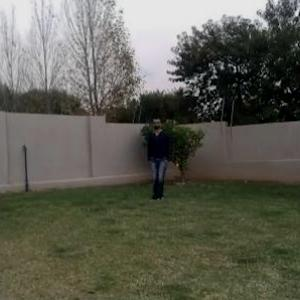follow: (148, 116, 170, 205)
